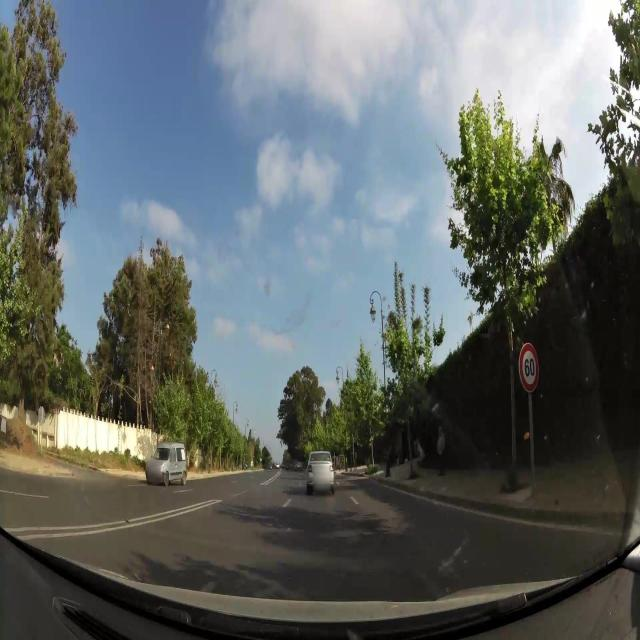car: (145, 442, 188, 487), (306, 450, 335, 495), (294, 460, 304, 472)
